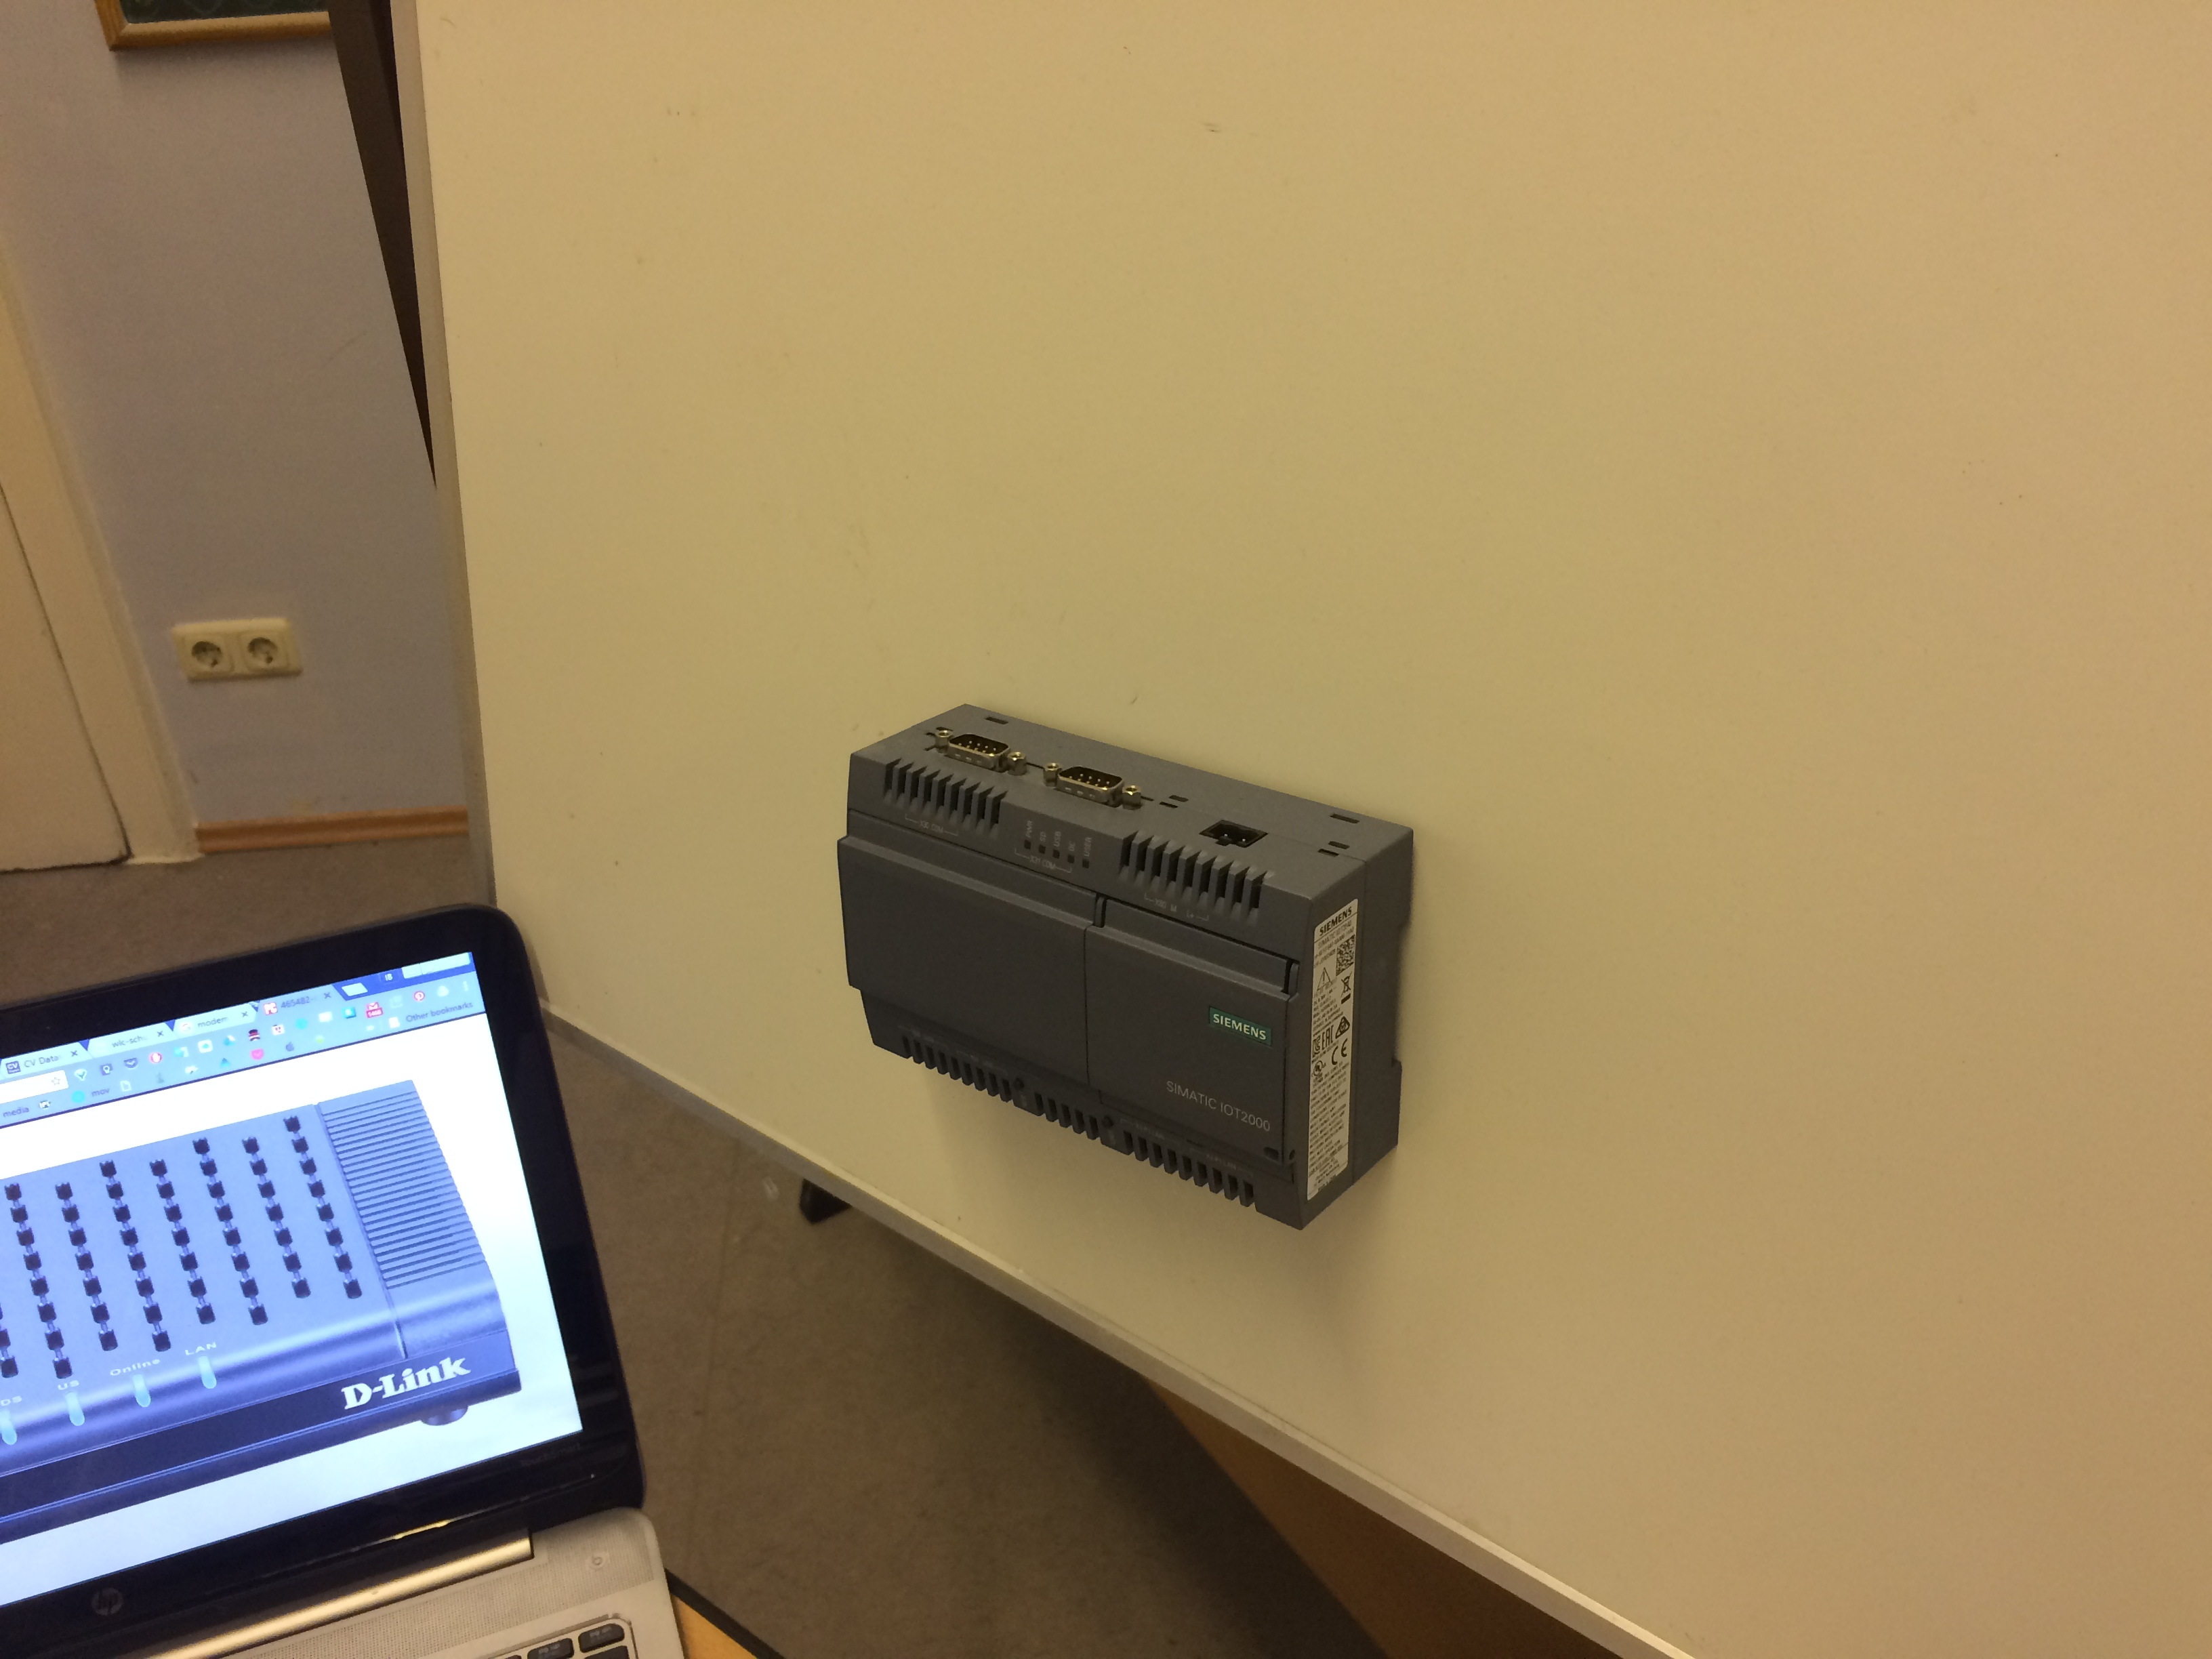iot2000: (834, 701, 1418, 1236)
